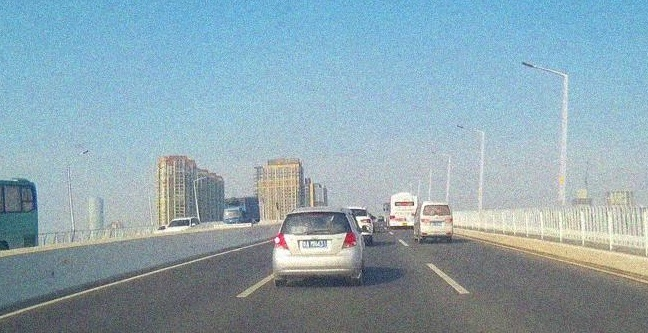L_light: (274, 233, 289, 250), (421, 219, 429, 223)
R_light: (342, 231, 357, 249), (444, 219, 452, 222)
T_light: (310, 211, 322, 215), (434, 205, 440, 207)
day-left: (273, 206, 361, 286)
day-no: (420, 201, 453, 243)
